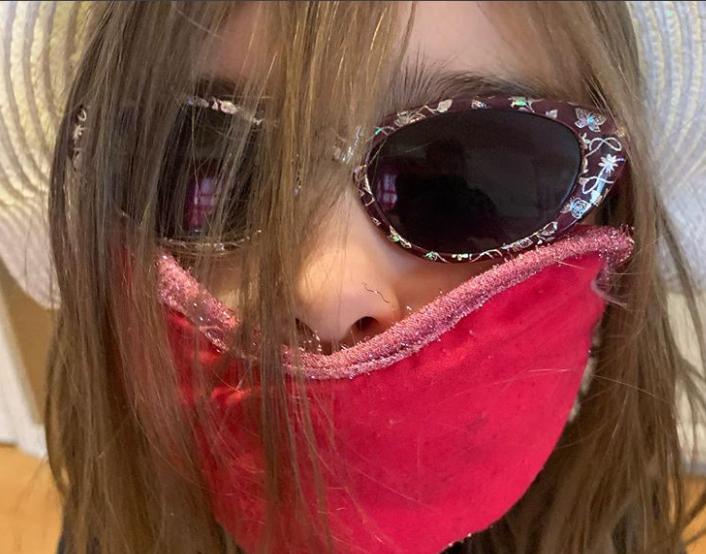with_incorrect_mask: (49, 1, 639, 554)
